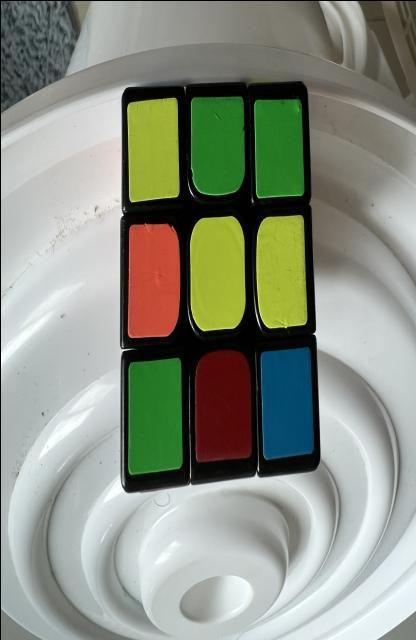Blue: (259, 347, 313, 458)
Green: (128, 357, 182, 473), (190, 95, 244, 195), (254, 98, 303, 198)
Orange: (127, 223, 180, 337)
Red: (194, 348, 250, 462)
Yellow: (189, 215, 245, 330), (255, 215, 306, 328), (126, 97, 179, 202)
